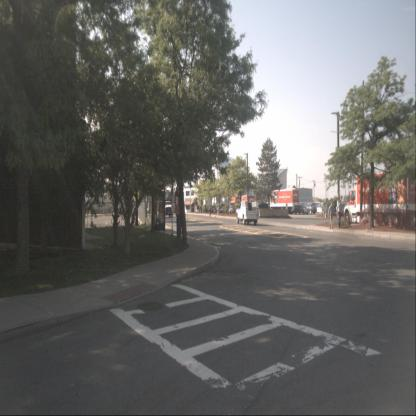human-pedestrian-adult: (336, 201, 344, 228), (328, 202, 334, 229), (217, 206, 219, 215)
vehicle-car: (294, 205, 310, 215), (305, 202, 317, 214), (164, 200, 172, 216), (228, 204, 238, 214), (219, 205, 230, 213)
vehicle-truck: (343, 175, 416, 227), (268, 189, 299, 214), (236, 200, 258, 226), (241, 195, 255, 211)
